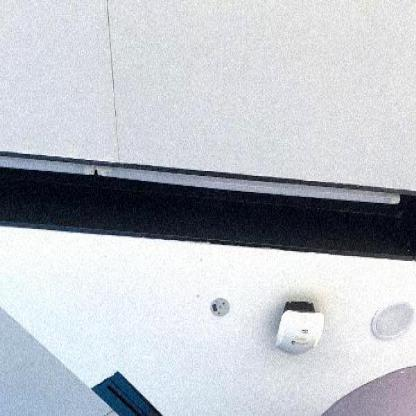light_off: (2, 89, 406, 252)
